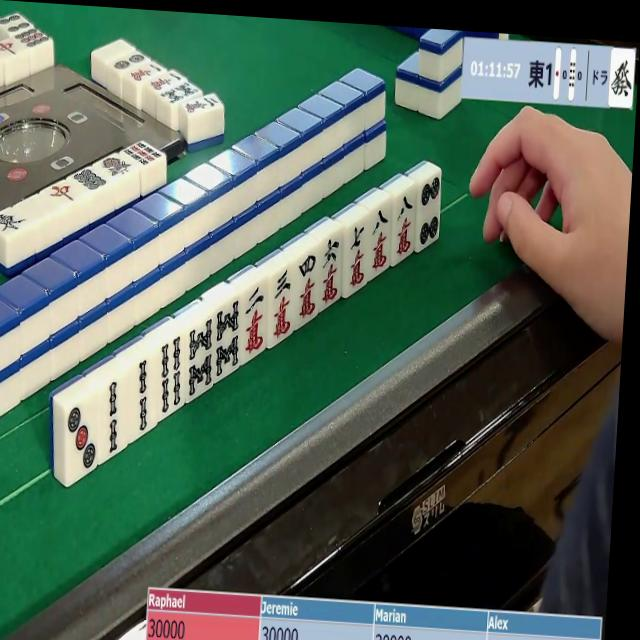fa: (610, 50, 636, 107)
m2: (240, 282, 273, 361)
m3: (267, 266, 299, 345)
m4: (292, 251, 323, 326)
m6: (319, 234, 347, 309)
m7: (343, 219, 374, 295)
m8: (368, 205, 395, 278), (392, 190, 418, 263)
s2: (98, 376, 131, 463), (129, 355, 161, 440)
s4: (153, 335, 188, 422)
s8: (212, 298, 246, 383), (183, 319, 216, 403)
t3: (62, 397, 100, 482)
t4: (416, 172, 442, 251)
